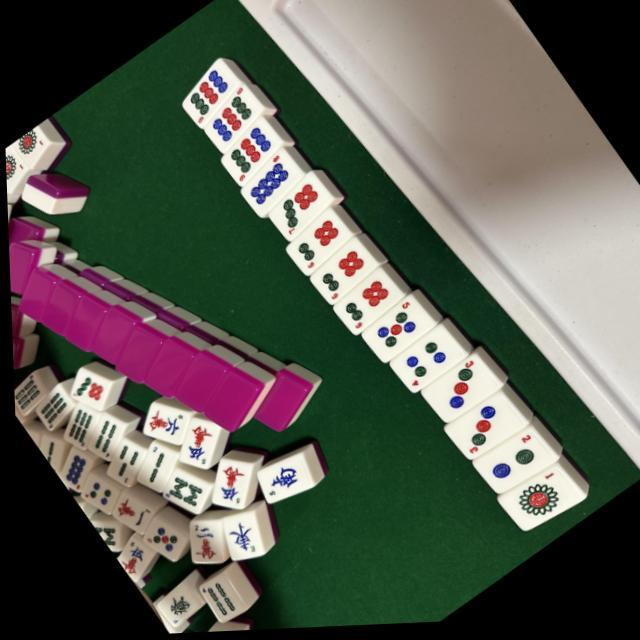sd1: (493, 466, 572, 540)
sd2: (468, 426, 548, 498)
sd3: (418, 356, 494, 426), (440, 396, 513, 464)
sd4: (386, 330, 456, 396)
sd5: (356, 298, 427, 364)
sd6: (328, 272, 401, 339), (305, 242, 374, 305), (284, 214, 349, 274)
sd7: (263, 178, 330, 240)
sd8: (234, 152, 298, 210)
sd9: (196, 87, 262, 149), (176, 62, 240, 124), (216, 122, 281, 183)
